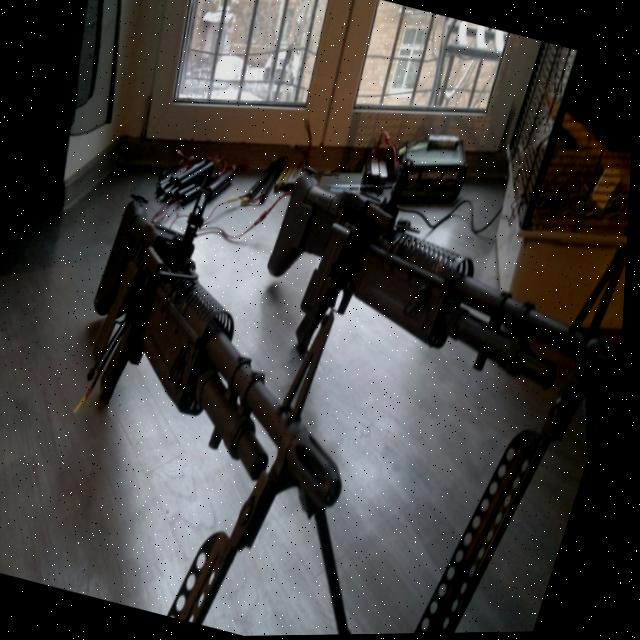firearm: (50, 183, 420, 517), (240, 146, 634, 441)
grenade: (236, 147, 282, 206), (167, 146, 208, 191), (202, 160, 239, 209), (174, 180, 204, 215), (155, 161, 182, 193)
